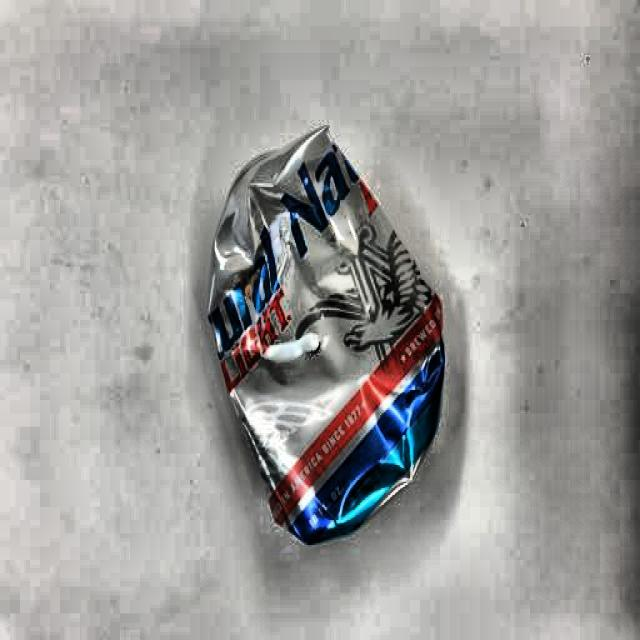metal: (204, 121, 447, 550)
